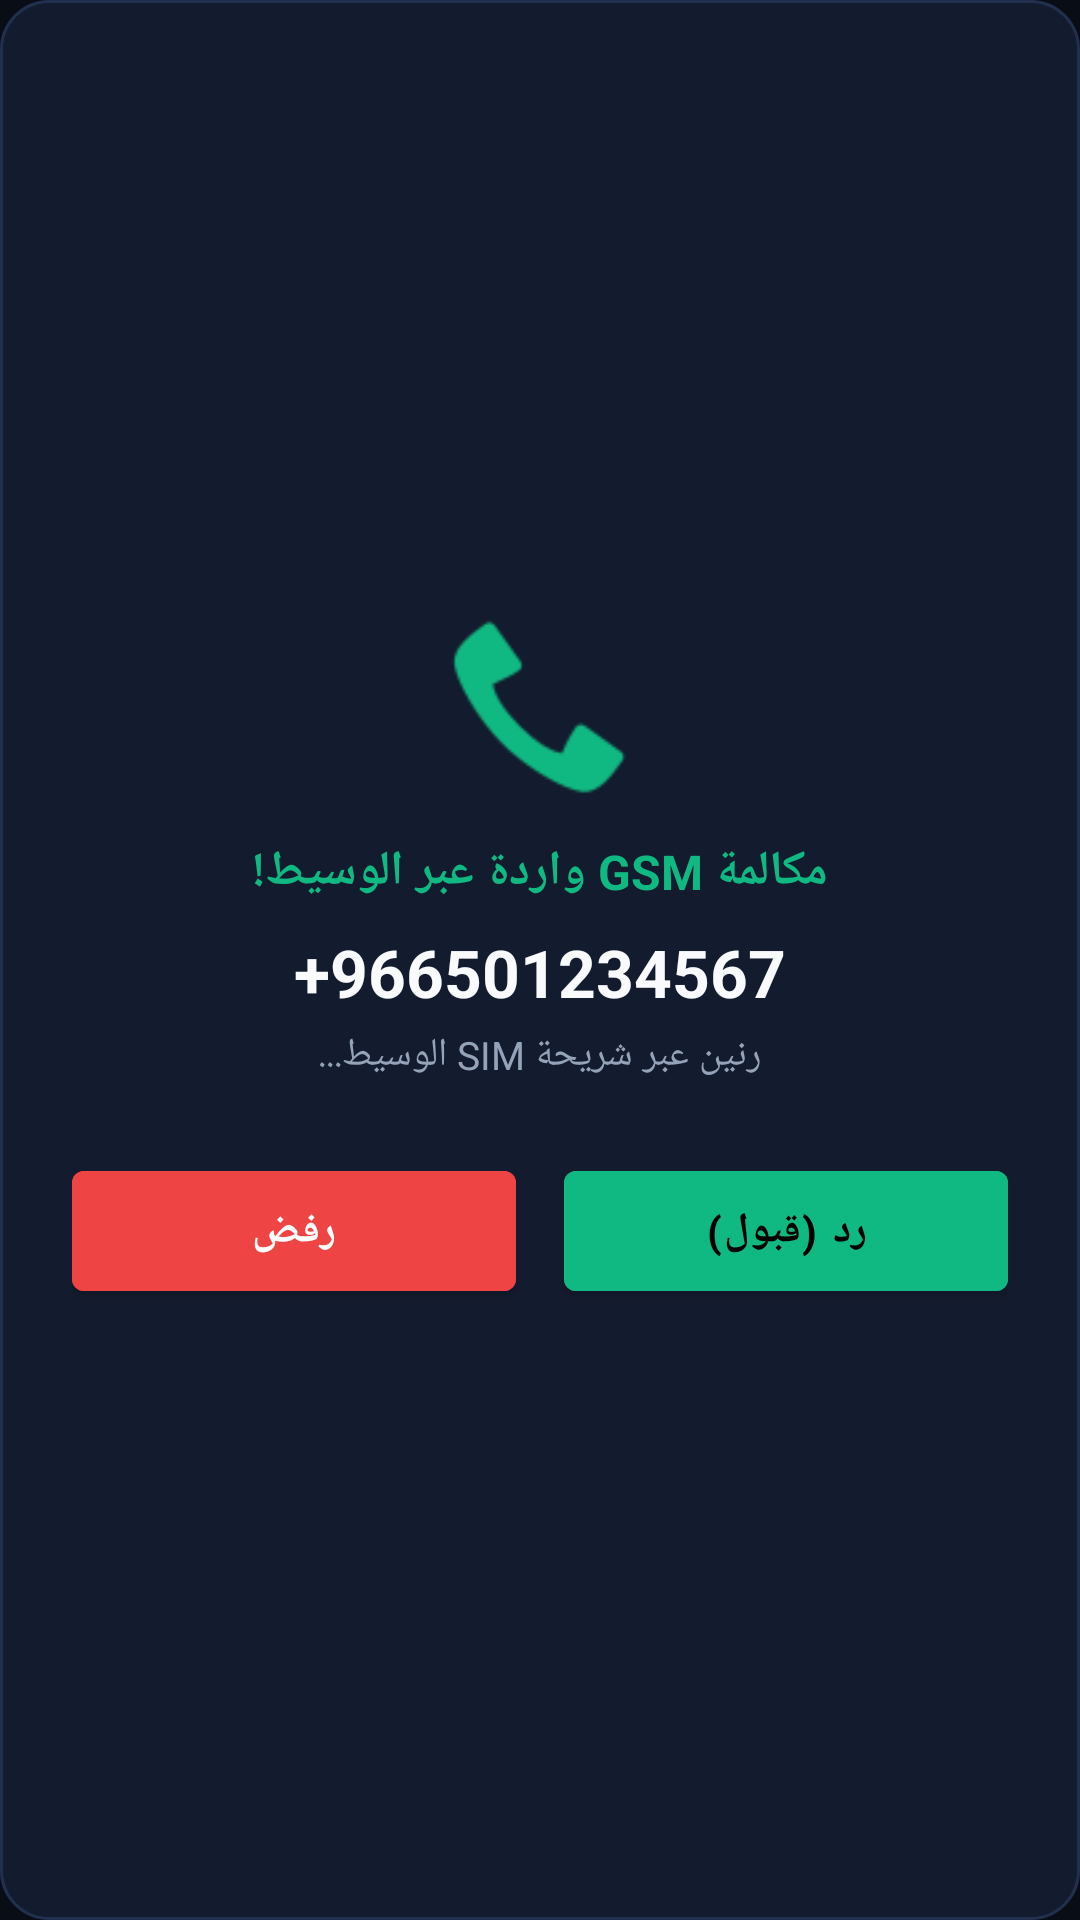

Named icons in this screenshot (1080×1920) and their centers, [x,y]:
phone call: [539,707]
